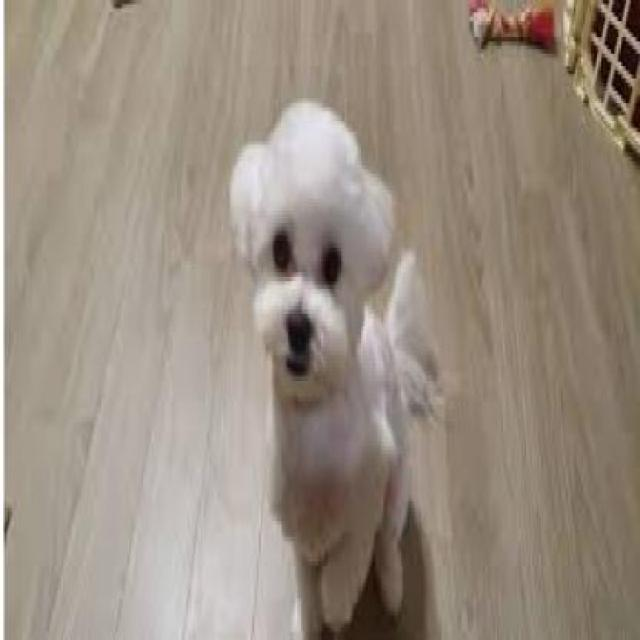Dog: (223, 100, 445, 637)
